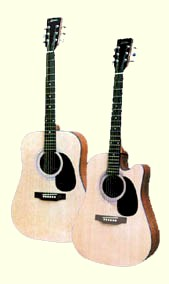guitar: (70, 36, 159, 267), (11, 16, 90, 243)
